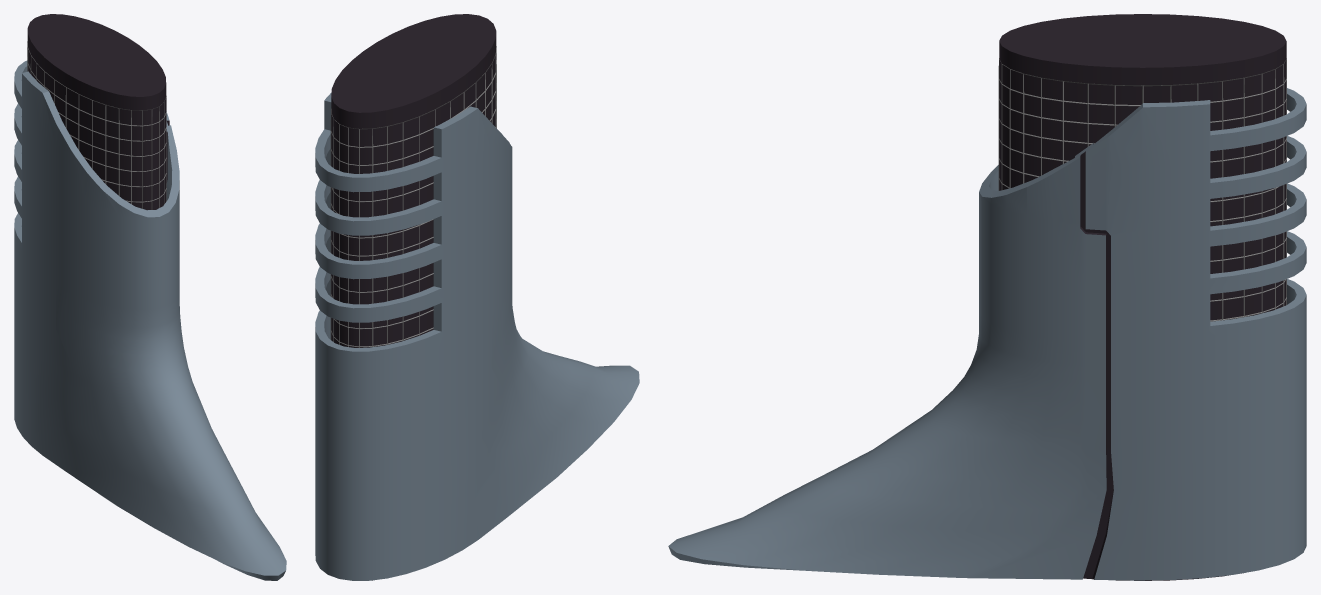
The model's file is Scyscrapper1.fbx.
3 renders of one model, left to right at view 1: azimuth 30°, elevation 25°; view 2: azimuth 150°, elevation 25°; view 3: azimuth 270°, elevation 25°, orthographic. The views are drawn at different scales.
Visible parts, largest first — view 1: Cylinder, Cylinder.001, Cylinder.002; view 2: Cylinder, Cylinder.001, Cylinder.002; view 3: Cylinder, Cylinder.001, Cylinder.002.
Part boxes in pixels (x1,y1,x2,y2): Cylinder: [14, 60, 286, 580]; Cylinder.001: [27, 14, 166, 210]; Cylinder.002: [27, 41, 166, 209]; Cylinder: [315, 92, 639, 580]; Cylinder.001: [331, 14, 496, 580]; Cylinder.002: [330, 46, 496, 347]; Cylinder: [668, 88, 1306, 580]; Cylinder.001: [999, 14, 1286, 580]; Cylinder.002: [998, 58, 1286, 321].
Size of the model in its own units: 99.8 by 346 by 390.
